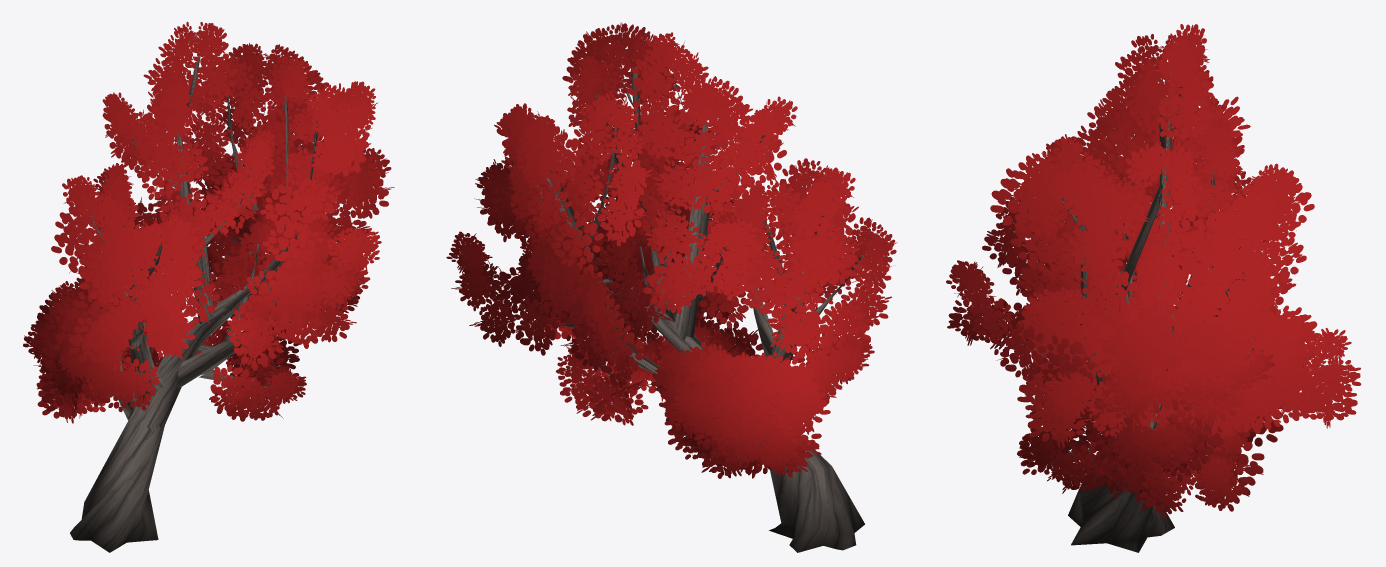
File: TwistedTree_1@lod.gltf
3 views of the same model, side by side, from view 1: azimuth 30°, elevation 25°; view 2: azimuth 150°, elevation 25°; view 3: azimuth 270°, elevation 25° (orthographic). The views are drawn at different scales.
Parts seen in each view (by area): view 1: TwistedTree_1; view 2: TwistedTree_1; view 3: TwistedTree_1.
Boxes of the visible parts, left/top/right/bottom form: TwistedTree_1: left=23, top=21, right=394, bottom=552; TwistedTree_1: left=446, top=22, right=897, bottom=552; TwistedTree_1: left=946, top=24, right=1361, bottom=552.
Bounding box in the file's own units: 13.52 × 16.73 × 11.55.
Materials: 2 (2 with a texture image).
